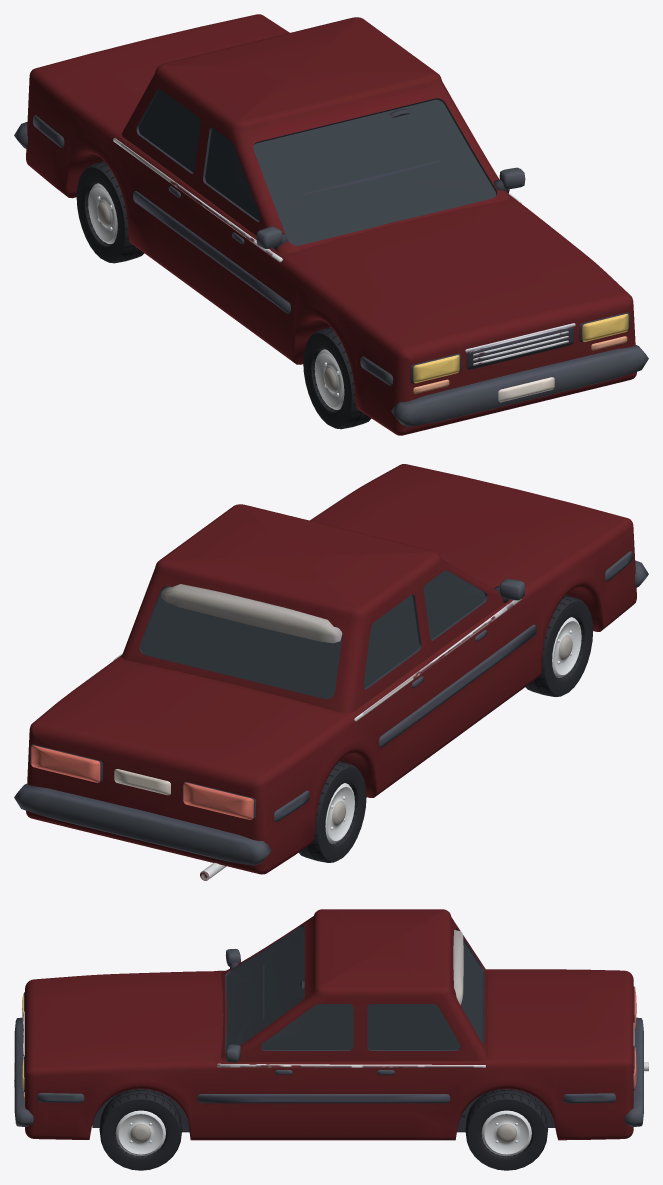
Rendered from car_sedan2.glb.
The picture shows the model from 3 angles, top to bottom: view 1: azimuth 30°, elevation 25°; view 2: azimuth 150°, elevation 25°; view 3: azimuth 270°, elevation 25°; orthographic projection. The views are drawn at different scales.
Parts seen in each view (by area): view 1: 1980s-sedan_body, 1980s-sedan_windows, 1980s-sedan_wheel_fr, 1980s-sedan_wheel_rr; view 2: 1980s-sedan_body, 1980s-sedan_windows, 1980s-sedan_wheel_rr, 1980s-sedan_wheel_fr; view 3: 1980s-sedan_body, 1980s-sedan_windows, 1980s-sedan_wheel_fl, 1980s-sedan_wheel_rl.
Part boxes in pixels (<box>): 1980s-sedan_body: <box>14,14,648,435</box>; 1980s-sedan_windows: <box>139,89,496,245</box>; 1980s-sedan_wheel_fr: <box>303,327,371,429</box>; 1980s-sedan_wheel_rr: <box>76,161,144,263</box>; 1980s-sedan_body: <box>14,464,648,880</box>; 1980s-sedan_windows: <box>141,570,485,699</box>; 1980s-sedan_wheel_rr: <box>299,761,366,862</box>; 1980s-sedan_wheel_fr: <box>525,595,593,696</box>; 1980s-sedan_body: <box>14,909,648,1140</box>; 1980s-sedan_windows: <box>226,927,482,1049</box>; 1980s-sedan_wheel_fl: <box>99,1089,182,1170</box>; 1980s-sedan_wheel_rl: <box>465,1089,548,1170</box>.
Bounding box in the file's own units: 1.79 × 1.41 × 4.6.
Materials: 6 (2 with a texture image).
